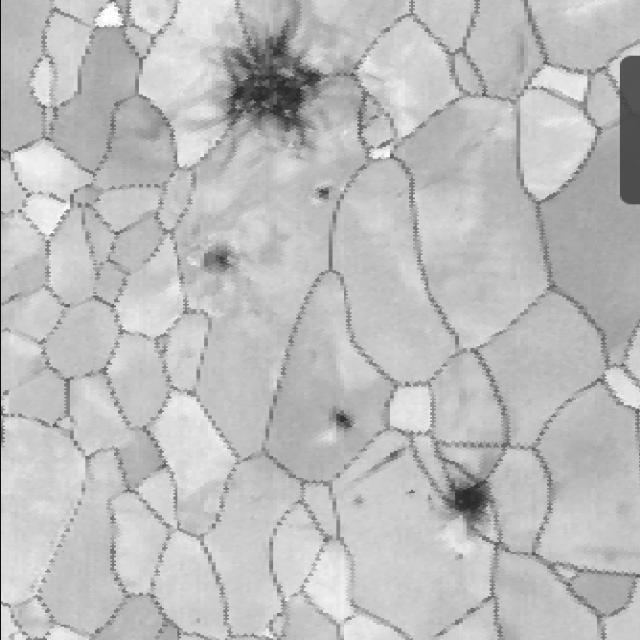good_void: (180, 4, 335, 160), (427, 462, 492, 540), (184, 244, 231, 286), (362, 446, 408, 478), (327, 396, 360, 435), (447, 548, 469, 566), (313, 184, 330, 205), (350, 494, 371, 510), (403, 486, 421, 503), (0, 387, 13, 399)
